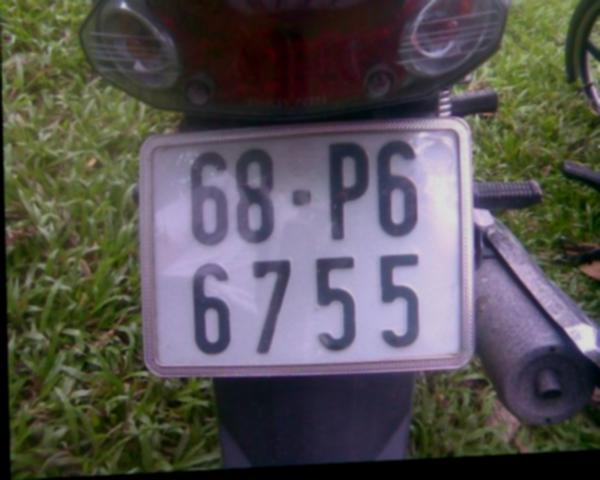License_Plate: (141, 116, 469, 384)
